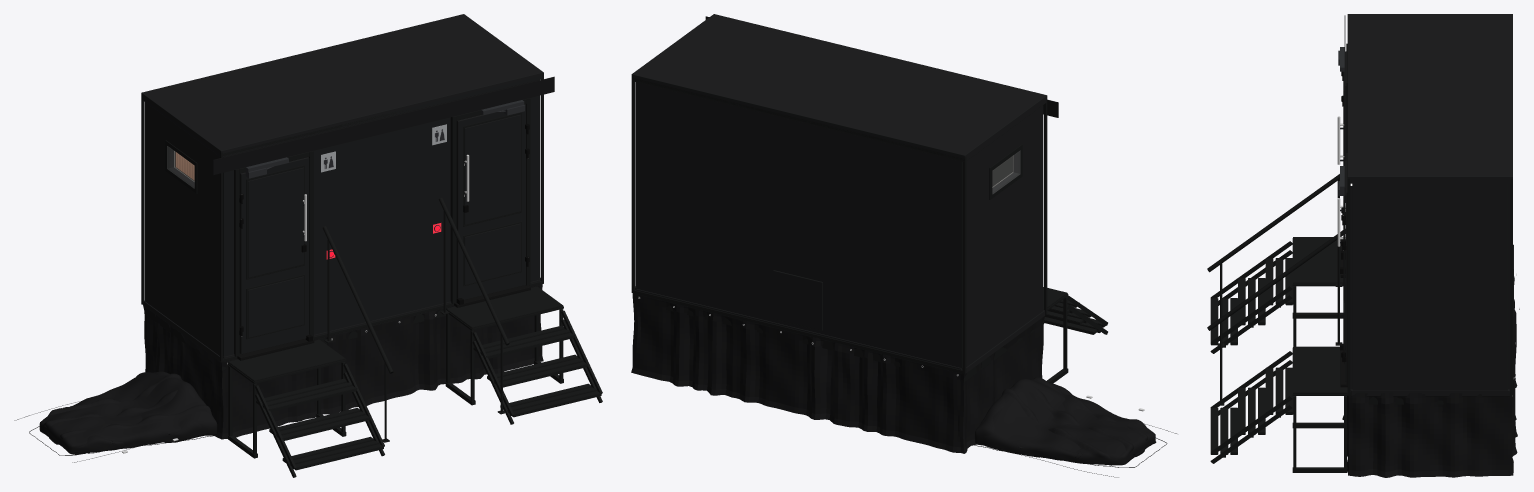
The picture shows the model from 3 angles, left to right: view 1: azimuth 30°, elevation 25°; view 2: azimuth 150°, elevation 25°; view 3: azimuth 270°, elevation 25°; orthographic projection. The views are drawn at different scales.
Parts seen in each view (by area): view 1: WC2_ROOF_Roof_slab, WC2_SHELL_Central_front_panel, WC2_SKIRT_Fitted_continuous_technical_fabric, WC2_SHELL_End_structural_panel_1, TENT_cover, FIX_topcover, DoorUnit_L_Inset_panel_001, DoorUnit_R_Inset_panel_001, WC2_Stair_02, DoorUnit_L_Opaque_leaf, DoorUnit_R_Opaque_leaf, DoorUnit_L_Inset_panel (+16 smaller); view 2: WC2_SHELL_Back_structural_panel, WC2_SKIRT_Fitted_continuous_technical_fabric, WC2_ROOF_Roof_slab, WC2_SHELL_End_structural_panel_1, TENT_cover, WC2_SHELL_Rear_service_hatch_inferred, WC2_SHELL_Rear_perimeter_rail0.823, WC2_SHELL_Rear_lower_closure_profile, WC2_SHELL_Corner_trim.001, WC2_SHELL_Rear_perimeter_rail2.956, WC2_SHELL_Corner_trim, WC2_SHELL_Corner_trim.003 (+2 smaller); view 3: WC2_SHELL_End_structural_panel1, WC2_ROOF_Roof_slab, WC2_SKIRT_Fitted_continuous_technical_fabric, WC2_Stair_02, WC2_Stair_02_Stair_Landing_Plate, Stair_Landing_Plate, WC2_SHELL_Lower_end_closure_profile_1.001, WC2_SHELL_Corner_trim.002, WC2_Stair_02_Stair_Handrail, Stair_Handrail, WC2_SHELL_Corner_trim.003, WC2_SHELL_Back_structural_panel (+13 smaller).
Boxes of the visible parts, bbox=[...] form: WC2_ROOF_Roof_slab: bbox=[141, 14, 543, 156]; WC2_SHELL_Central_front_panel: bbox=[314, 116, 450, 334]; WC2_SKIRT_Fitted_continuous_technical_fabric: bbox=[143, 284, 543, 439]; WC2_SHELL_End_structural_panel_1: bbox=[145, 102, 219, 355]; TENT_cover: bbox=[39, 371, 217, 454]; FIX_topcover: bbox=[213, 76, 554, 174]; DoorUnit_L_Inset_panel_001: bbox=[248, 167, 303, 277]; DoorUnit_R_Inset_panel_001: bbox=[464, 114, 520, 224]; WC2_Stair_02: bbox=[473, 325, 601, 417]; DoorUnit_L_Opaque_leaf: bbox=[239, 157, 309, 354]; DoorUnit_R_Opaque_leaf: bbox=[456, 104, 525, 299]; DoorUnit_L_Inset_panel: bbox=[248, 276, 303, 337]; WC2_SHELL_Back_structural_panel: bbox=[636, 82, 962, 368]; WC2_SKIRT_Fitted_continuous_technical_fabric: bbox=[631, 290, 1045, 453]; WC2_ROOF_Roof_slab: bbox=[631, 14, 1047, 161]; WC2_SHELL_End_structural_panel_1: bbox=[966, 105, 1043, 366]; TENT_cover: bbox=[975, 377, 1156, 465]; WC2_SHELL_Rear_service_hatch_inferred: bbox=[773, 270, 822, 330]; WC2_SHELL_Rear_perimeter_rail0.823: bbox=[631, 290, 965, 373]; WC2_SHELL_Rear_lower_closure_profile: bbox=[636, 289, 962, 373]; WC2_SHELL_Corner_trim.001: bbox=[962, 157, 966, 373]; WC2_SHELL_Rear_perimeter_rail2.956: bbox=[631, 77, 965, 161]; WC2_SHELL_Corner_trim: bbox=[1044, 97, 1047, 313]; WC2_SHELL_Corner_trim.003: bbox=[631, 76, 634, 290]; WC2_SHELL_End_structural_panel1: bbox=[1352, 183, 1507, 390]; WC2_ROOF_Roof_slab: bbox=[1347, 14, 1512, 183]; WC2_SKIRT_Fitted_continuous_technical_fabric: bbox=[1342, 276, 1517, 477]; WC2_Stair_02: bbox=[1210, 367, 1293, 454]; WC2_Stair_02_Stair_Landing_Plate: bbox=[1293, 346, 1347, 393]; Stair_Landing_Plate: bbox=[1293, 237, 1345, 283]; WC2_SHELL_Lower_end_closure_profile_1.001: bbox=[1351, 389, 1509, 396]; WC2_SHELL_Corner_trim.002: bbox=[1347, 178, 1350, 394]; WC2_Stair_02_Stair_Handrail: bbox=[1207, 229, 1345, 330]; Stair_Handrail: bbox=[1207, 174, 1339, 272]; WC2_SHELL_Corner_trim.003: bbox=[1510, 178, 1512, 394]; WC2_SHELL_Back_structural_panel: bbox=[1508, 183, 1510, 389].
Size of the model in its own units: 5.1 by 3 by 2.84.
Materials: 58 (2 with a texture image).
